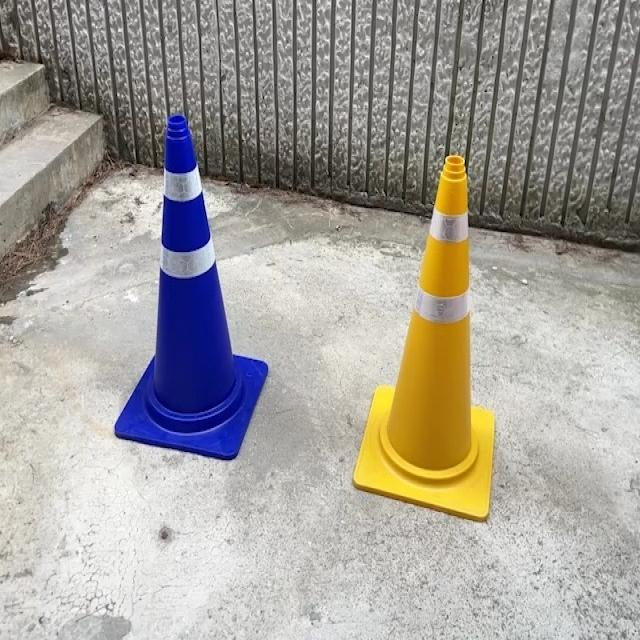b_rub: (114, 113, 268, 459)
y_rub: (354, 155, 496, 521)
